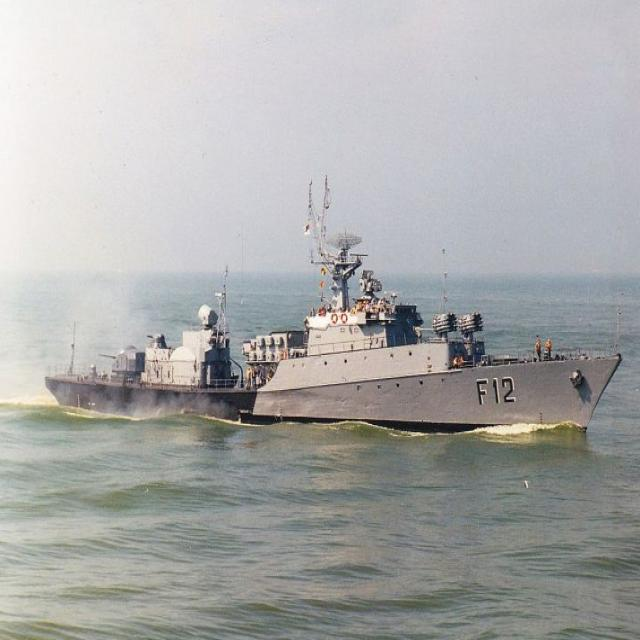Fragata: (41, 171, 622, 444)
